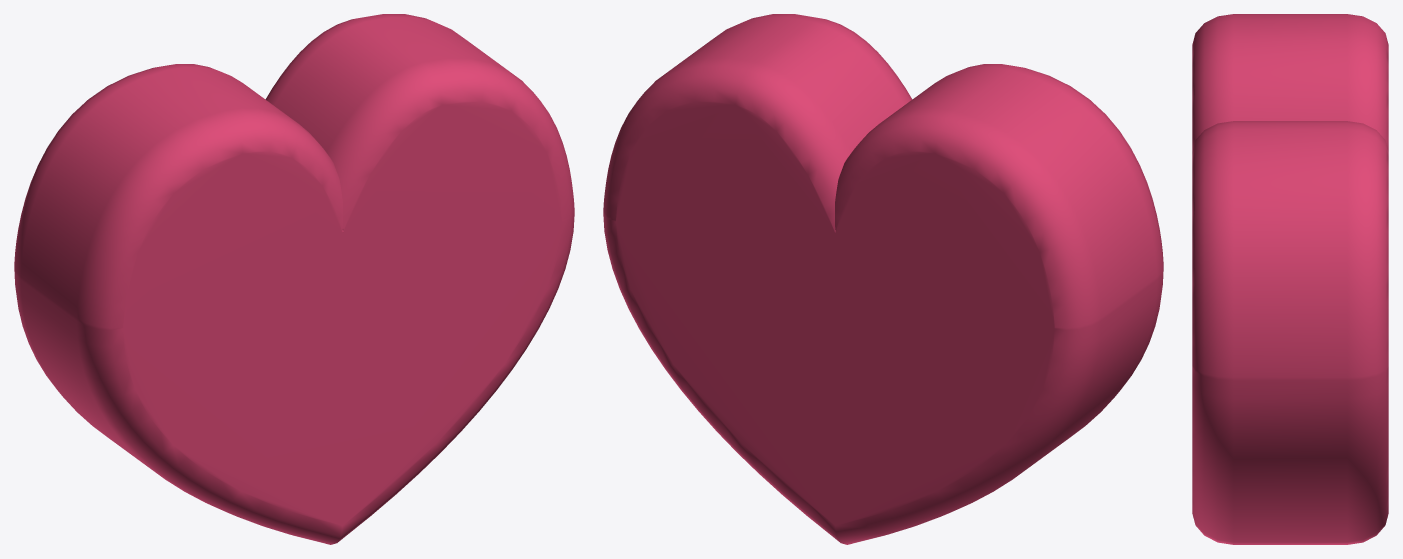
The model's file is heart.glb.
3 views of the same model, side by side, from view 1: azimuth 30°, elevation 25°; view 2: azimuth 150°, elevation 25°; view 3: azimuth 270°, elevation 25° (orthographic). The views are drawn at different scales.
Parts seen in each view (by area): view 1: heart; view 2: heart; view 3: heart.
Part boxes in pixels (box(x1,y1,x2,y2)): heart: box(14, 14, 574, 544); heart: box(603, 14, 1163, 544); heart: box(1192, 14, 1388, 544).
Size of the model in its own units: 1.12 by 0.9911 by 0.38.
